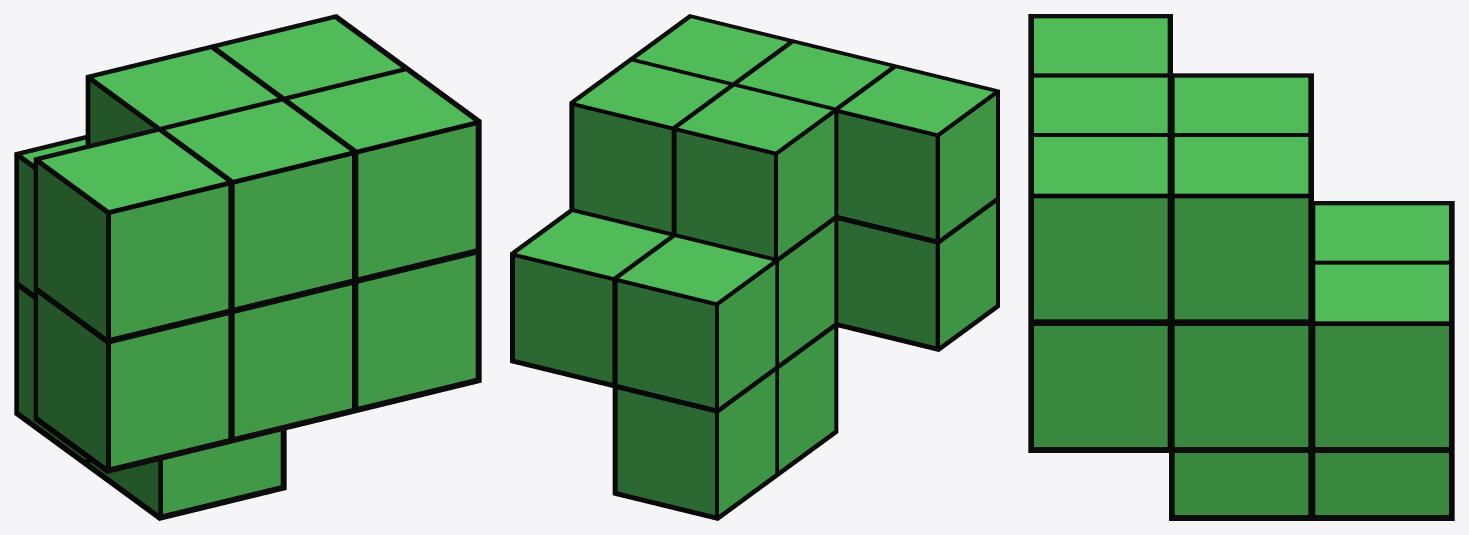
3 views of the same model, side by side, from view 1: azimuth 30°, elevation 25°; view 2: azimuth 150°, elevation 25°; view 3: azimuth 270°, elevation 25° (orthographic). The views are drawn at different scales.
Visible parts, largest first — view 1: b2:Mesh; view 2: b2:Mesh; view 3: b2:Mesh.
Boxes of the visible parts, x1,y1,x2,y2 form: b2:Mesh: (14, 14, 481, 520); b2:Mesh: (510, 14, 999, 520); b2:Mesh: (1028, 14, 1454, 520).
Size of the model in its own units: 6.06 by 6.06 by 6.06.
